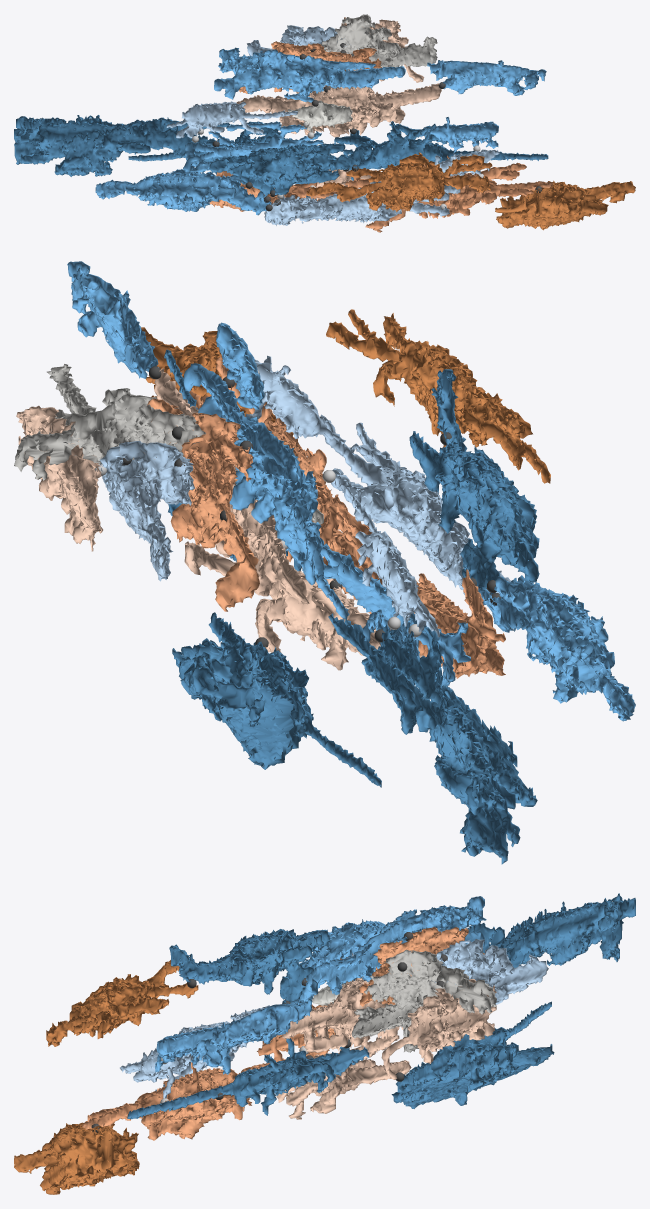
Rendered from sample_1_4_group_1.glb.
3 views of the same model, one above another, from view 1: azimuth 30°, elevation 25°; view 2: azimuth 150°, elevation 25°; view 3: azimuth 270°, elevation 25° (orthographic). The views are drawn at different scales.
Parts seen in each view (by area): view 1: osteocyte_60_elongated, osteocyte_218_elongated, osteocyte_108_round, osteocyte_99_elongated, osteocyte_123_round, osteocyte_52_elongated, osteocyte_36_round, osteocyte_47_elongated, osteocyte_62_elongated, osteocyte_244_untyped, osteocyte_44_round, osteocyte_234_elongated (+11 smaller); view 2: osteocyte_60_elongated, osteocyte_24_elongated, osteocyte_99_elongated, osteocyte_108_round, osteocyte_52_elongated, osteocyte_218_elongated, osteocyte_170_round, osteocyte_47_elongated, osteocyte_244_untyped, osteocyte_173_elongated, osteocyte_27_round, osteocyte_163_round (+9 smaller); view 3: osteocyte_24_elongated, osteocyte_60_elongated, osteocyte_244_untyped, osteocyte_99_elongated, osteocyte_36_round, osteocyte_44_round, osteocyte_62_elongated, osteocyte_108_round, osteocyte_218_elongated, osteocyte_163_round, osteocyte_123_round, osteocyte_173_elongated (+8 smaller).
Boxes of the visible parts, <box> form: osteocyte_60_elongated: <box>14,115,229,176</box>; osteocyte_218_elongated: <box>214,47,405,102</box>; osteocyte_108_round: <box>306,152,492,211</box>; osteocyte_99_elongated: <box>209,141,373,196</box>; osteocyte_123_round: <box>236,83,441,137</box>; osteocyte_52_elongated: <box>95,169,271,215</box>; osteocyte_36_round: <box>495,180,635,230</box>; osteocyte_47_elongated: <box>264,181,460,225</box>; osteocyte_62_elongated: <box>334,121,548,180</box>; osteocyte_244_untyped: <box>321,14,437,67</box>; osteocyte_44_round: <box>316,155,553,232</box>; osteocyte_234_elongated: <box>427,60,546,95</box>; osteocyte_60_elongated: <box>328,613,537,864</box>; osteocyte_24_elongated: <box>172,612,381,787</box>; osteocyte_99_elongated: <box>409,369,539,591</box>; osteocyte_108_round: <box>326,309,550,483</box>; osteocyte_52_elongated: <box>478,575,635,721</box>; osteocyte_218_elongated: <box>184,363,324,585</box>; osteocyte_170_round: <box>147,398,259,611</box>; osteocyte_47_elongated: <box>320,414,511,594</box>; osteocyte_244_untyped: <box>14,364,205,482</box>; osteocyte_173_elongated: <box>99,441,194,581</box>; osteocyte_27_round: <box>184,541,422,670</box>; osteocyte_163_round: <box>16,405,103,551</box>; osteocyte_24_elongated: <box>391,1001,554,1108</box>; osteocyte_60_elongated: <box>467,893,635,967</box>; osteocyte_244_untyped: <box>352,949,496,1052</box>; osteocyte_99_elongated: <box>169,929,330,1004</box>; osteocyte_36_round: <box>14,1122,139,1194</box>; osteocyte_44_round: <box>82,1035,329,1140</box>; osteocyte_62_elongated: <box>127,1038,369,1119</box>; osteocyte_108_round: <box>46,960,198,1046</box>; osteocyte_218_elongated: <box>305,896,486,994</box>; osteocyte_163_round: <box>381,979,496,1079</box>; osteocyte_123_round: <box>282,976,403,1052</box>; osteocyte_173_elongated: <box>431,939,548,1004</box>.
Bounding box in the file's own units: 159 × 46.01 × 151.
